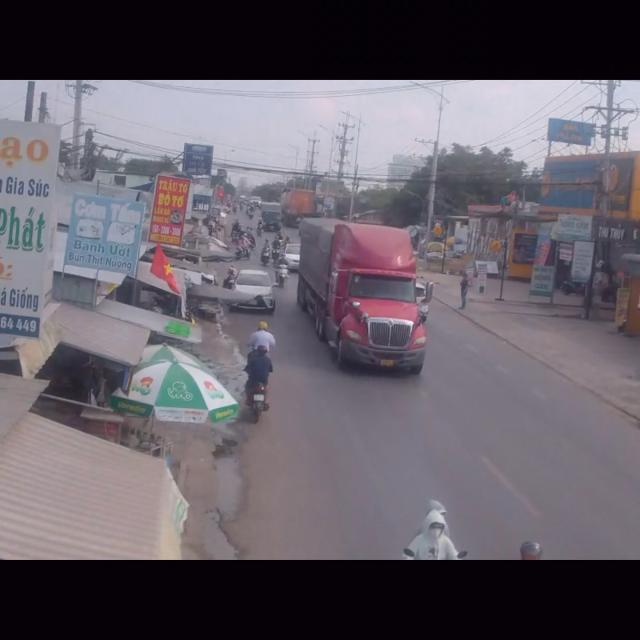car: (231, 267, 276, 312)
motorbike: (404, 502, 467, 560), (245, 349, 272, 422), (277, 256, 289, 286)
truck: (299, 214, 425, 375)
